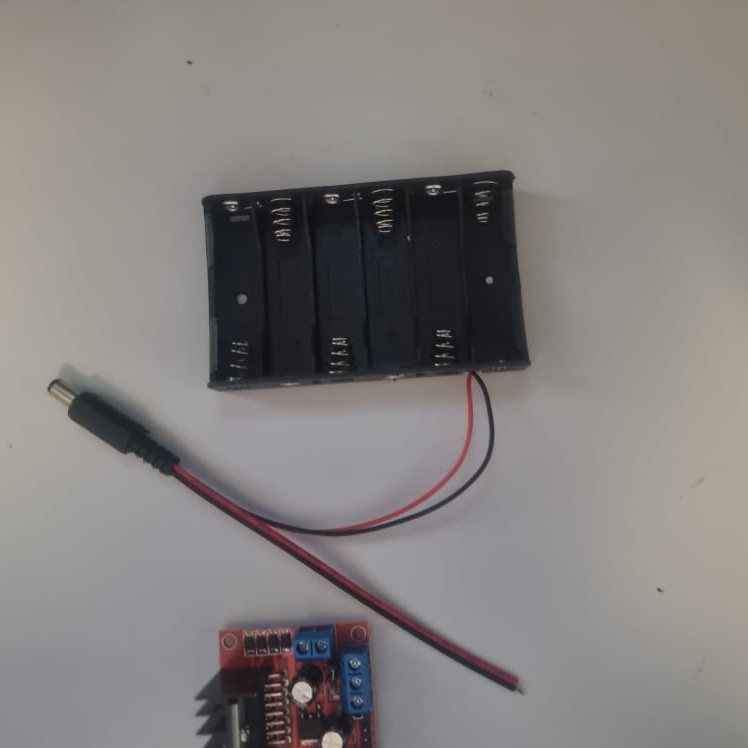BATTERY BOX: (202, 169, 533, 389)
MOTOR: (193, 617, 375, 748)
